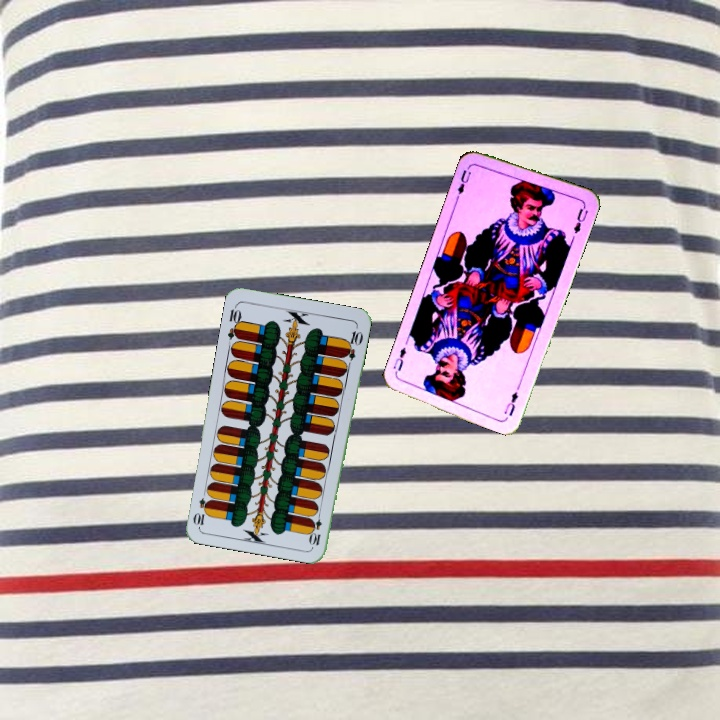E10: (224, 301, 244, 342), (307, 507, 325, 548)
EU: (453, 161, 473, 201), (500, 388, 521, 418)
